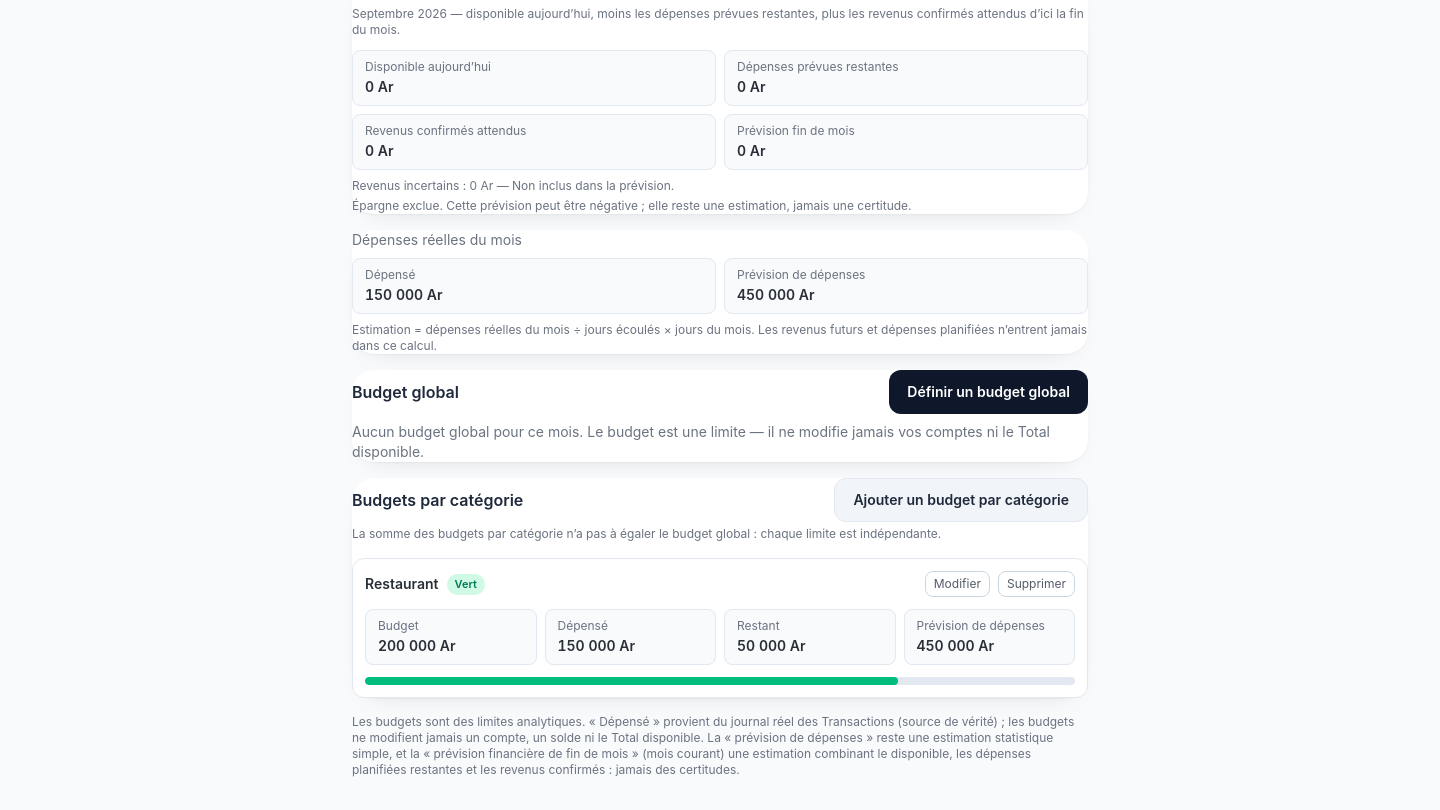
BudgetsPage — budgets mensuels › suppression : confirmation demandée, « Annuler » ne supprime rien
(page scrolled)
Step 1. Click the button "Supprimer" → coordinates (1036, 584), box [998, 571, 1075, 597]
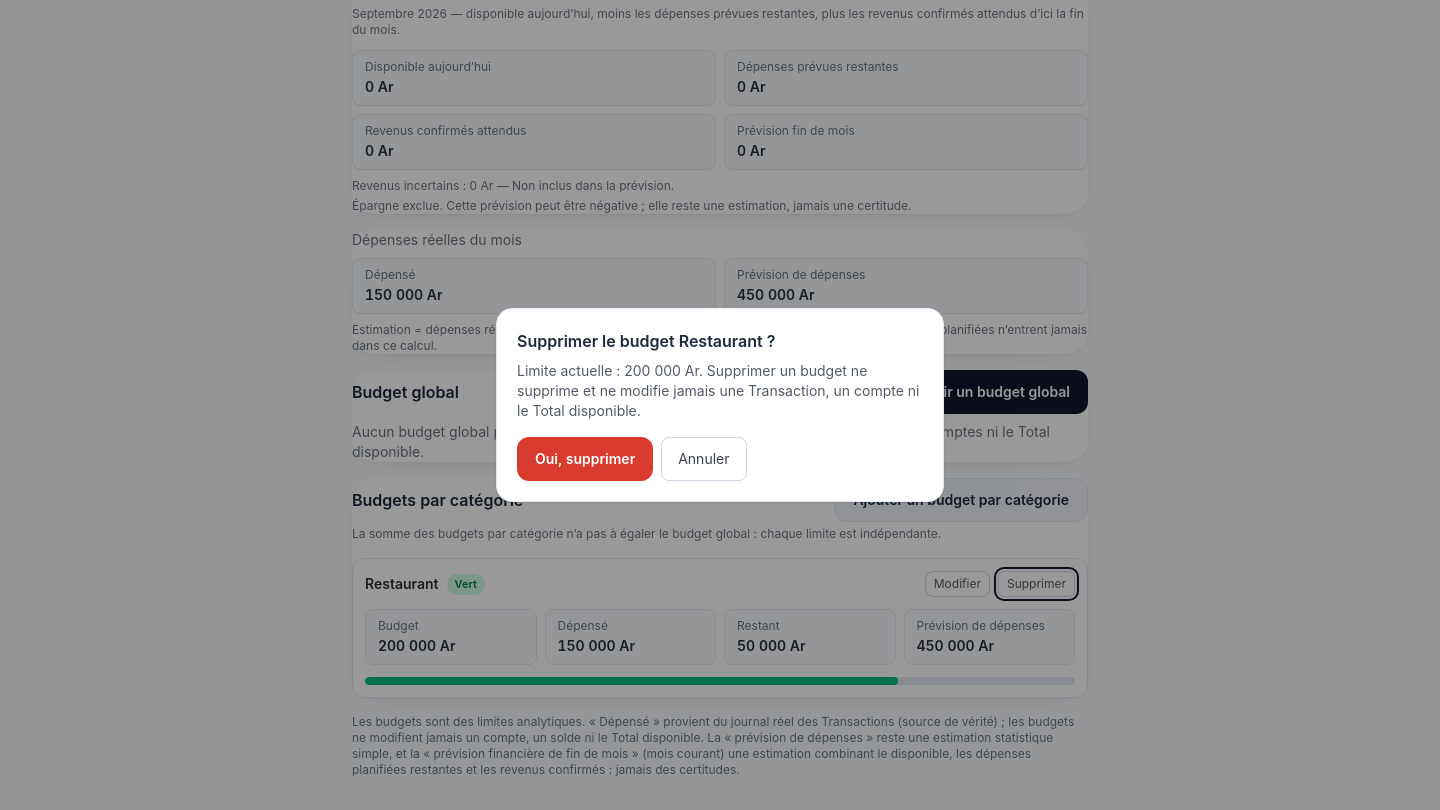
Now the heading "Supprimer le budget Restaurant ?" is shown, box [517, 331, 775, 351]
Step 2. Click the button "Annuler" → coordinates (704, 459), box [661, 437, 746, 481]
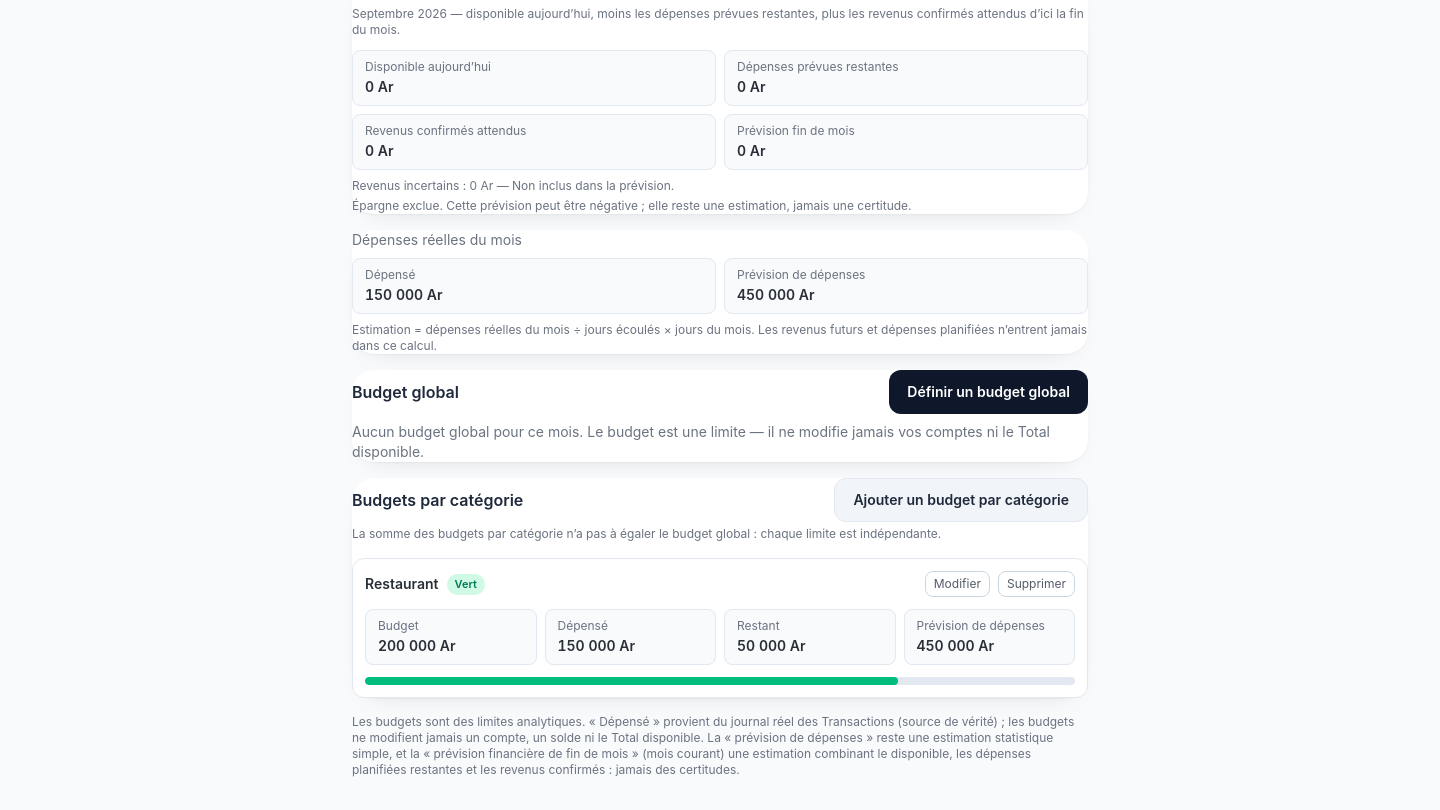
Now the heading "Supprimer le budget Restaurant ?" is gone
